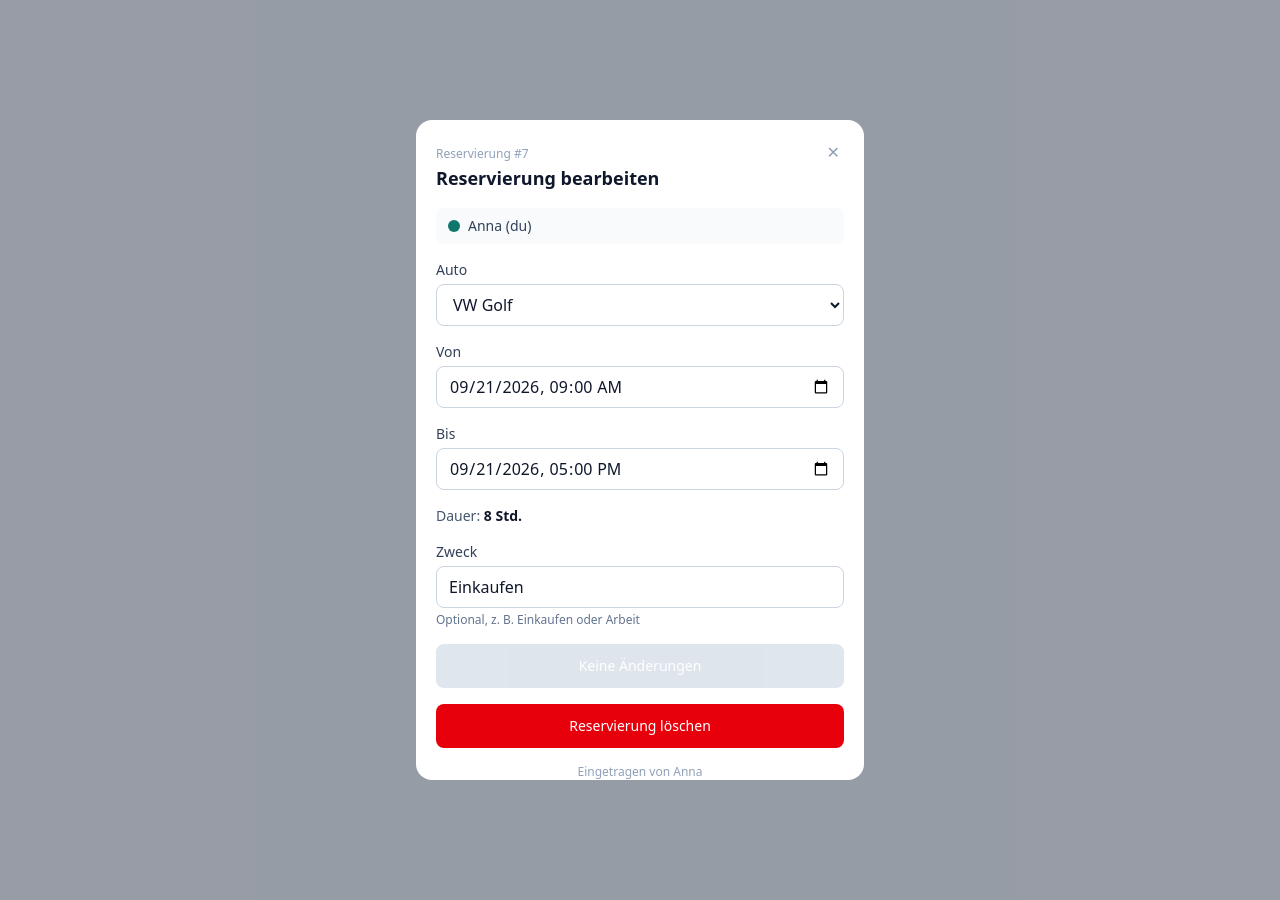
Test: editing your own reservation › lets the car be changed
Step 1. Select "Opel Corsa" in the dropdown labelled "Auto" → (640, 305), box [436,284,844,326]
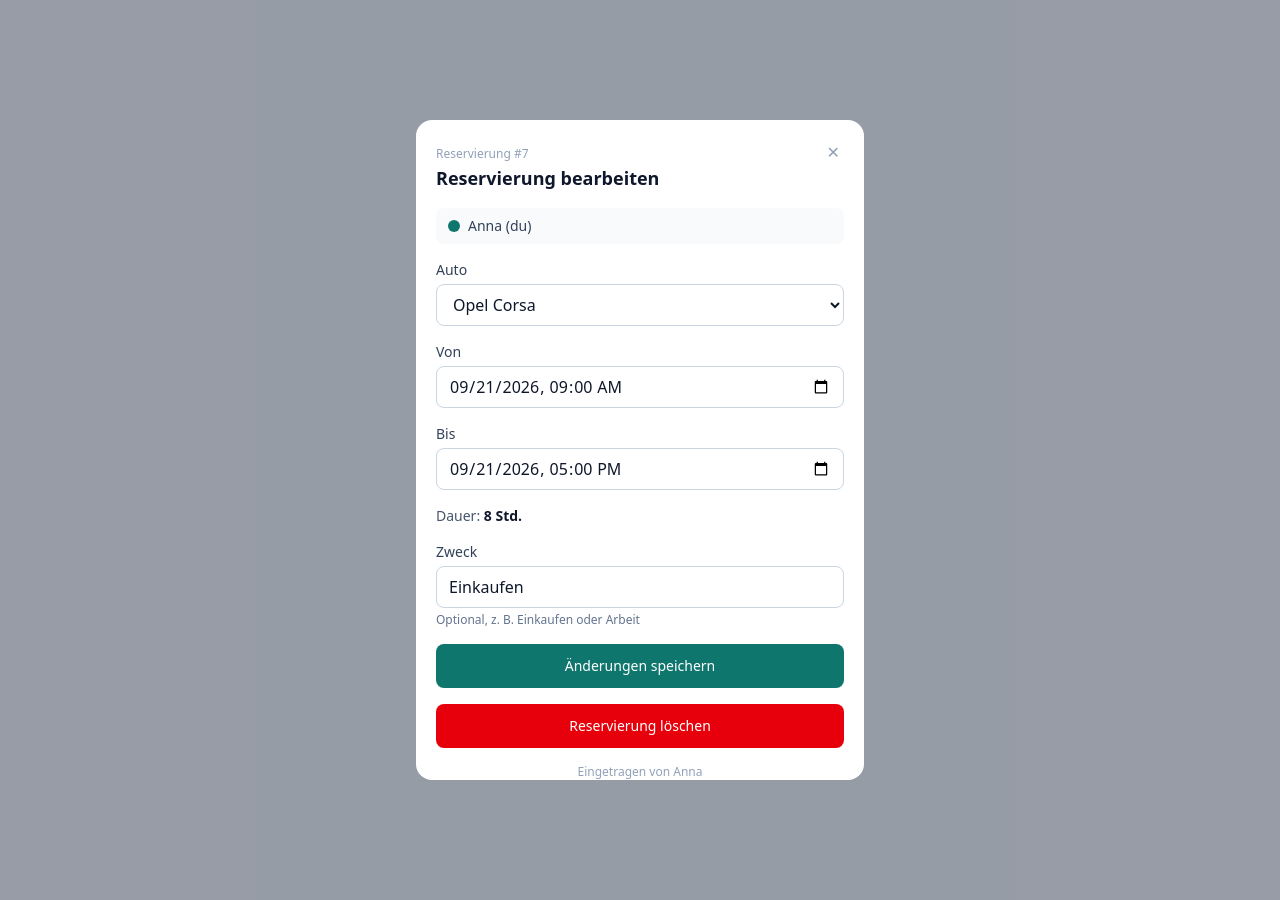
Expected: the button "Änderungen speichern" is enabled, [436,644,844,688]
